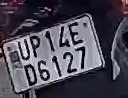1: (51, 53, 63, 80), (44, 30, 56, 52)
2: (62, 50, 78, 74)
4: (57, 27, 71, 48)
6: (37, 59, 51, 81)
7: (74, 45, 89, 70)
D: (22, 61, 37, 86)
E: (68, 20, 83, 45)
P: (28, 35, 42, 58)
U: (18, 39, 31, 61)
